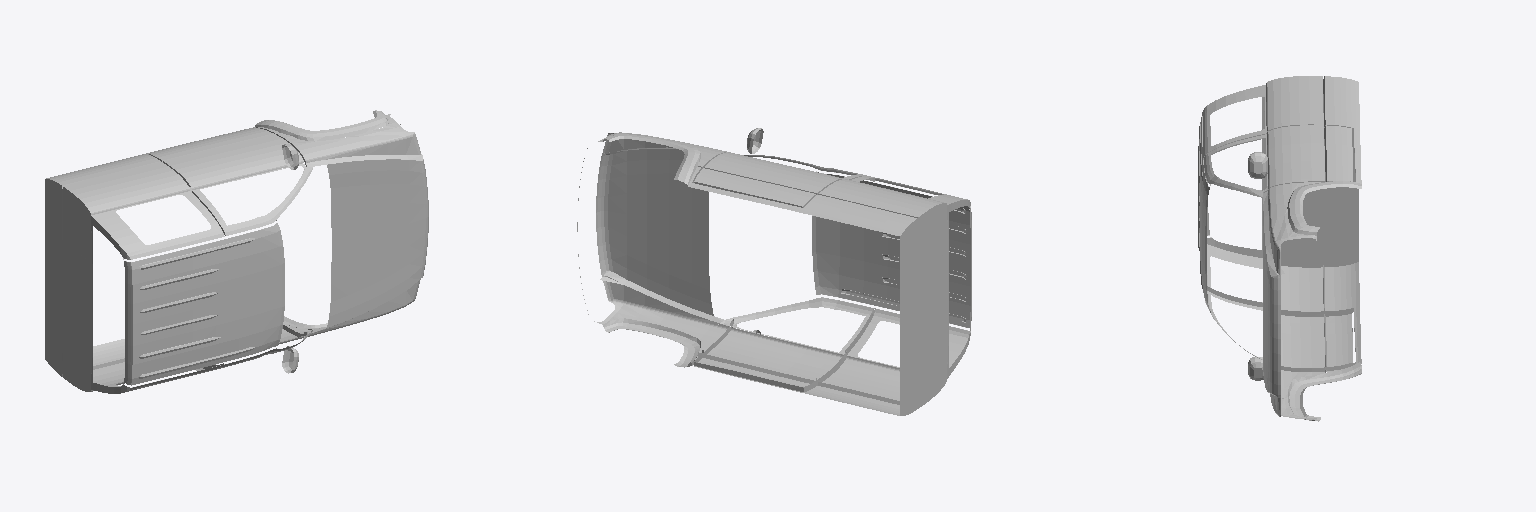
File: cab.obj
The picture shows the model from 3 angles: view 1: azimuth 30°, elevation 25°; view 2: azimuth 150°, elevation 25°; view 3: azimuth 270°, elevation 25°; orthographic projection.
Parts seen in each view (by area): view 1: Object01, Object02; view 2: Object01; view 3: Object01, Object02.
Part boxes in pixels (bbox=[...]): Object01: bbox=[45, 110, 428, 393]; Object02: bbox=[282, 144, 298, 373]; Object01: bbox=[577, 132, 971, 415]; Object01: bbox=[1198, 76, 1361, 421]; Object02: bbox=[1248, 152, 1267, 380].
Size of the model in its own units: 3.65 by 2.3 by 1.5.